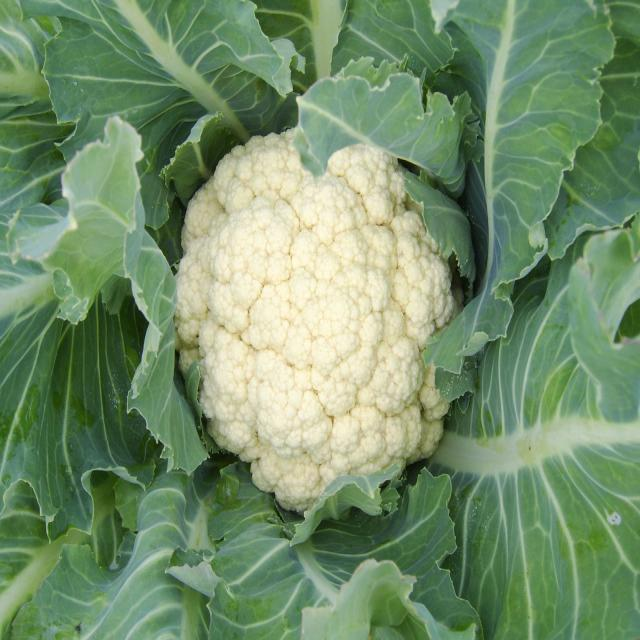cauliflower: (117, 39, 518, 580)
